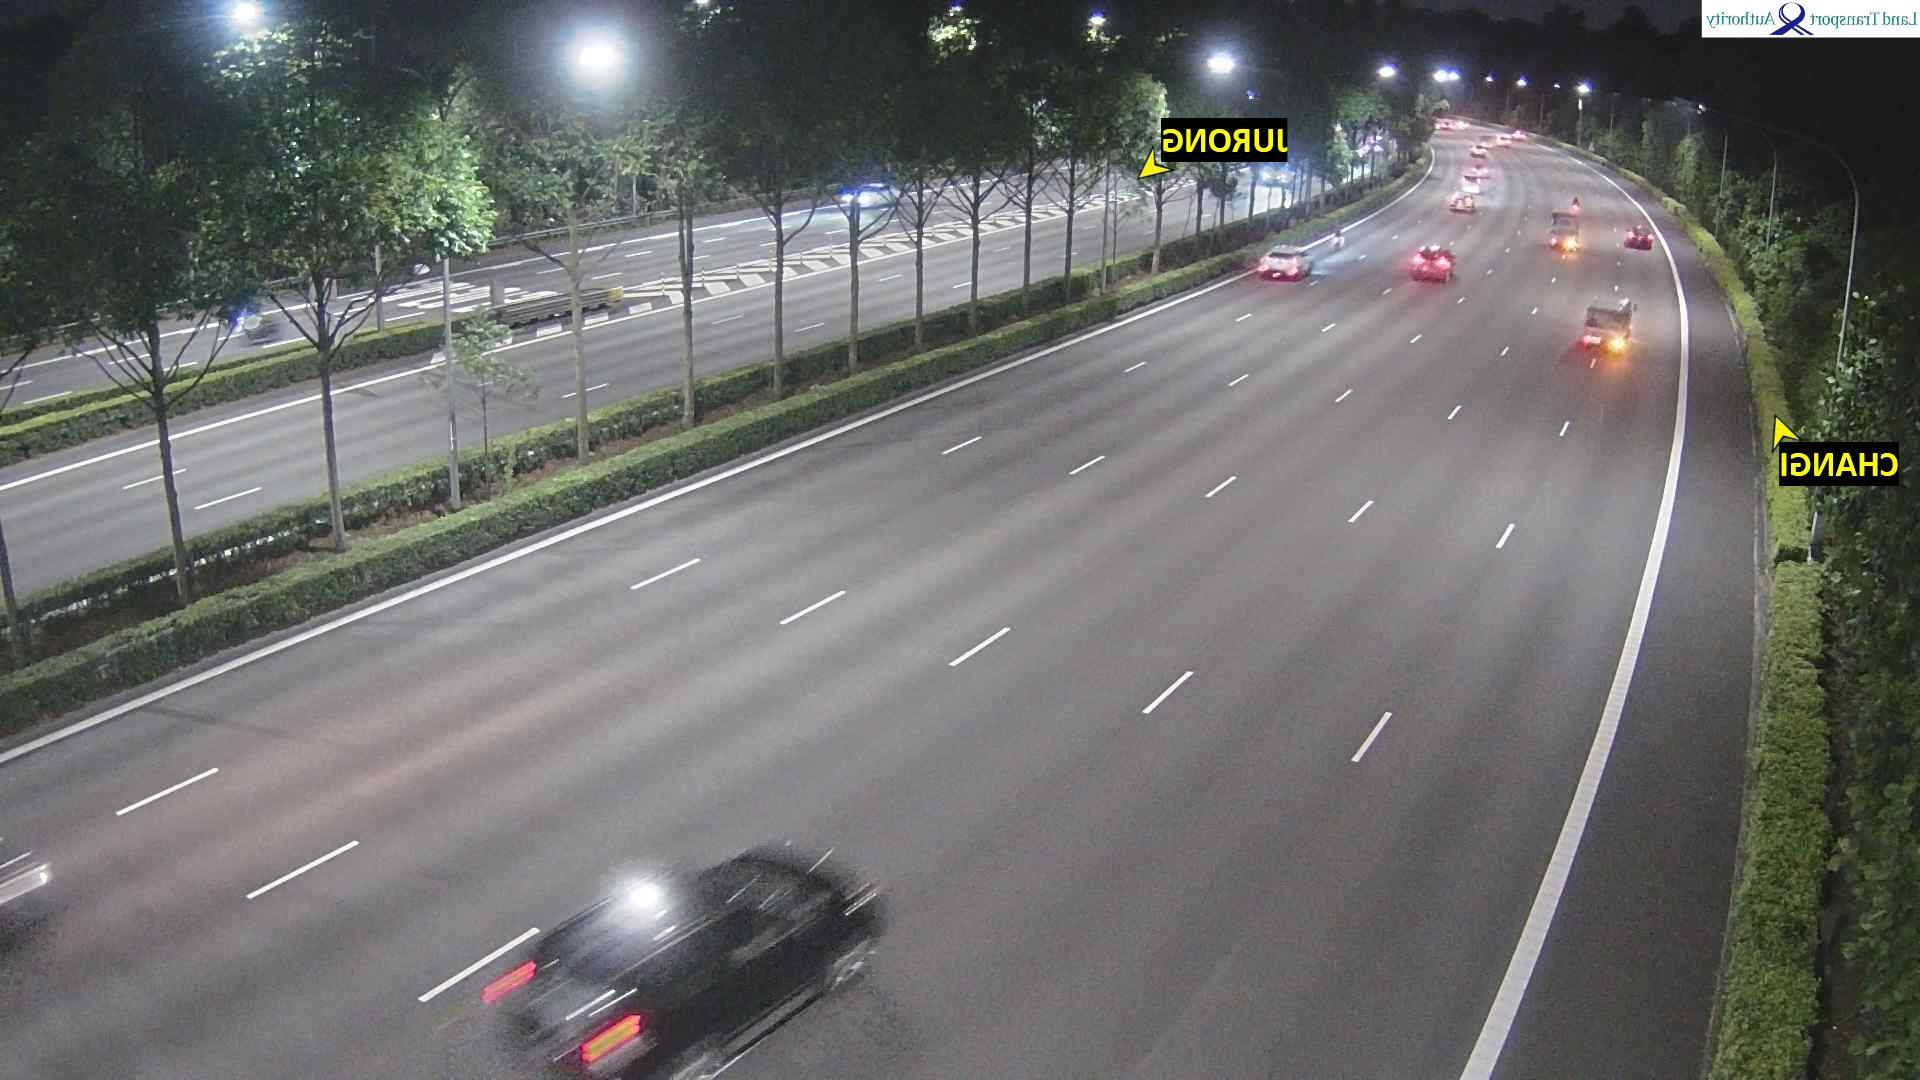cars: (481, 837, 882, 1077), (1259, 245, 1313, 281), (1411, 243, 1456, 282), (837, 181, 901, 208), (1625, 223, 1656, 249), (1261, 165, 1298, 186), (1448, 190, 1477, 212), (1465, 162, 1493, 183), (1435, 117, 1466, 131), (1461, 171, 1481, 193), (1472, 141, 1490, 157), (1495, 133, 1513, 146), (1513, 128, 1528, 141)
motorcycle: (1327, 223, 1353, 255), (1568, 194, 1585, 214)
trucks: (1580, 295, 1634, 353), (1548, 214, 1582, 253)
